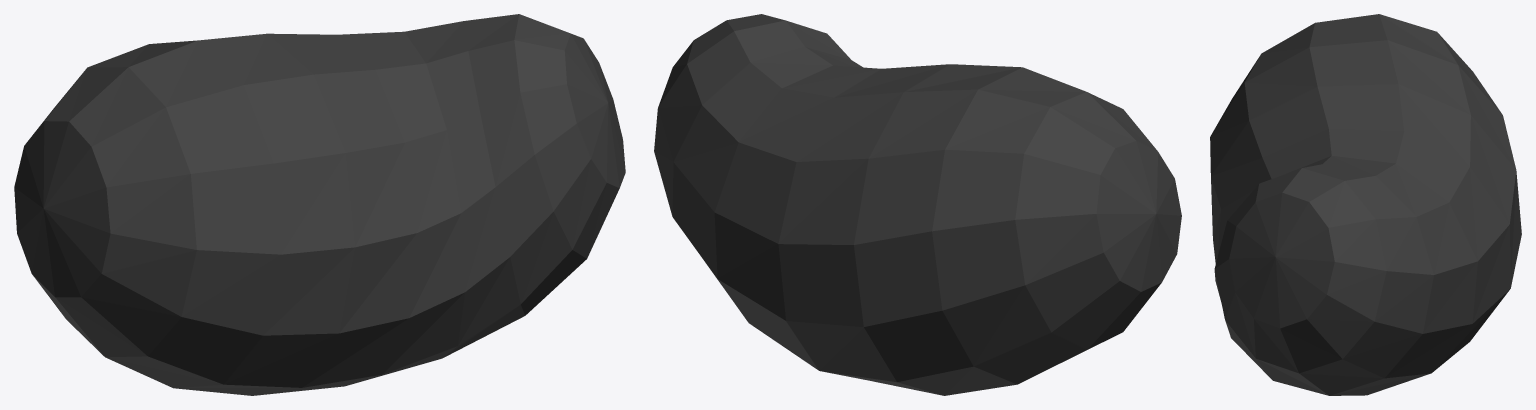
Rendered from kidney_L_LP.glb.
3 views of the same model, side by side, from view 1: azimuth 30°, elevation 25°; view 2: azimuth 150°, elevation 25°; view 3: azimuth 270°, elevation 25° (orthographic). The views are drawn at different scales.
Visible parts, largest first — view 1: kidney_L_LP; view 2: kidney_L_LP; view 3: kidney_L_LP.
Part boxes in pixels (x1,y1,x2,y2): kidney_L_LP: (14, 14, 625, 395); kidney_L_LP: (654, 14, 1181, 395); kidney_L_LP: (1210, 14, 1521, 395).
Bounding box in the file's own units: 0.0041 × 0.00243 × 0.00243.
Materials: 1 (1 with a texture image).
